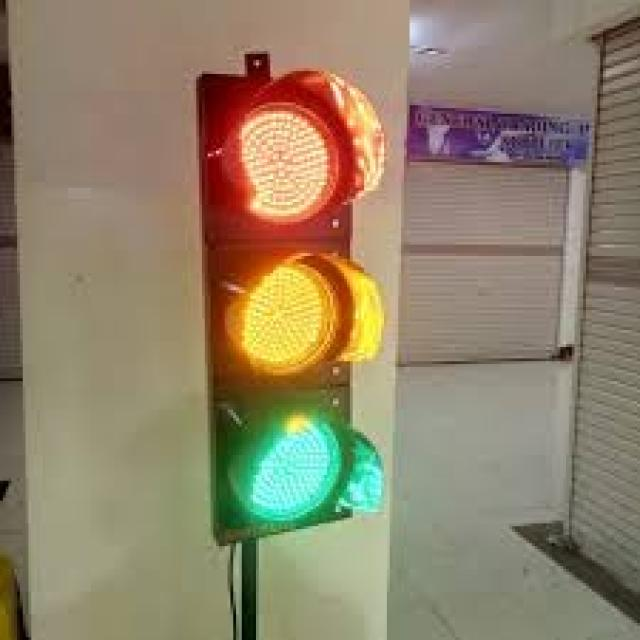Hijau: (234, 417, 335, 522)
Kuning: (223, 261, 342, 379)
Merah: (221, 102, 351, 229)
